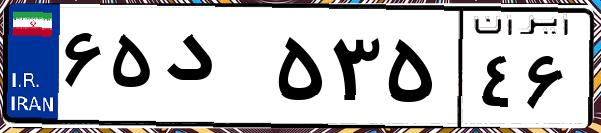3: (330, 28, 385, 110)
4: (475, 38, 525, 113)
5: (270, 28, 330, 110), (385, 28, 445, 110), (110, 28, 158, 98)
6: (57, 26, 110, 100), (525, 38, 570, 115)
د: (158, 20, 270, 120)
